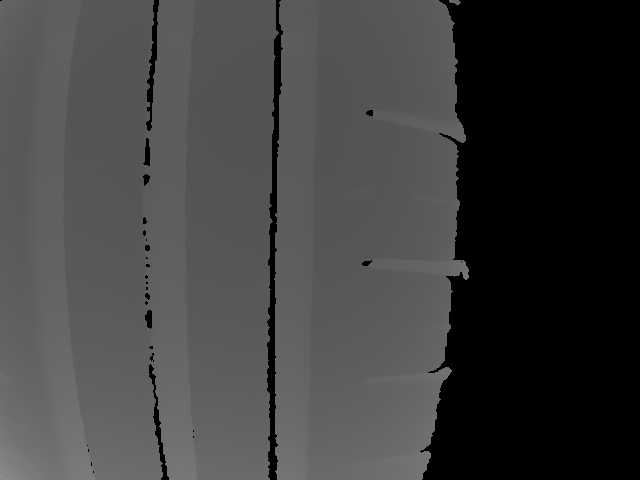high: (254, 201, 264, 233)
low: (291, 201, 300, 233)
